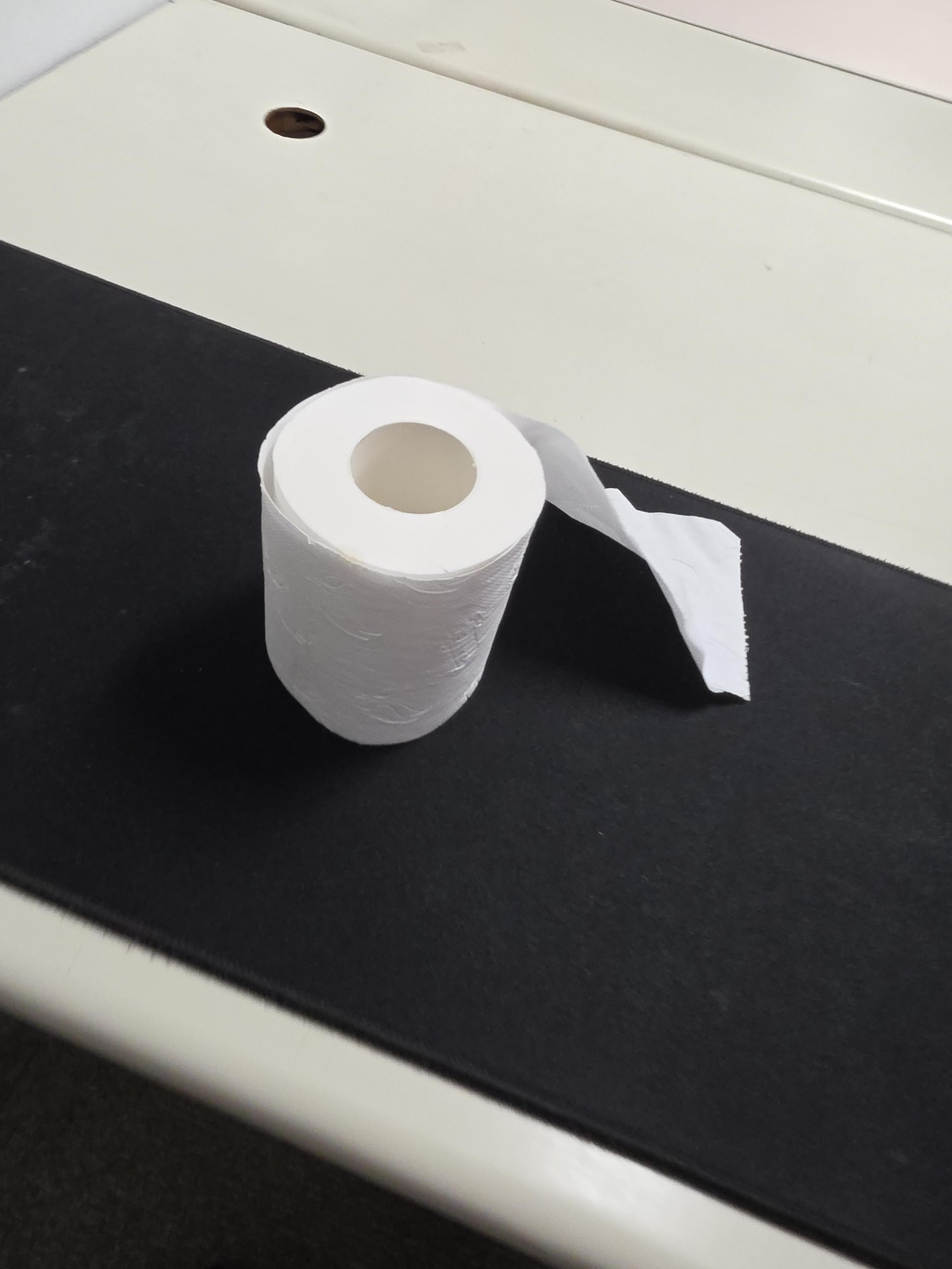tissue: (258, 375, 752, 747)
